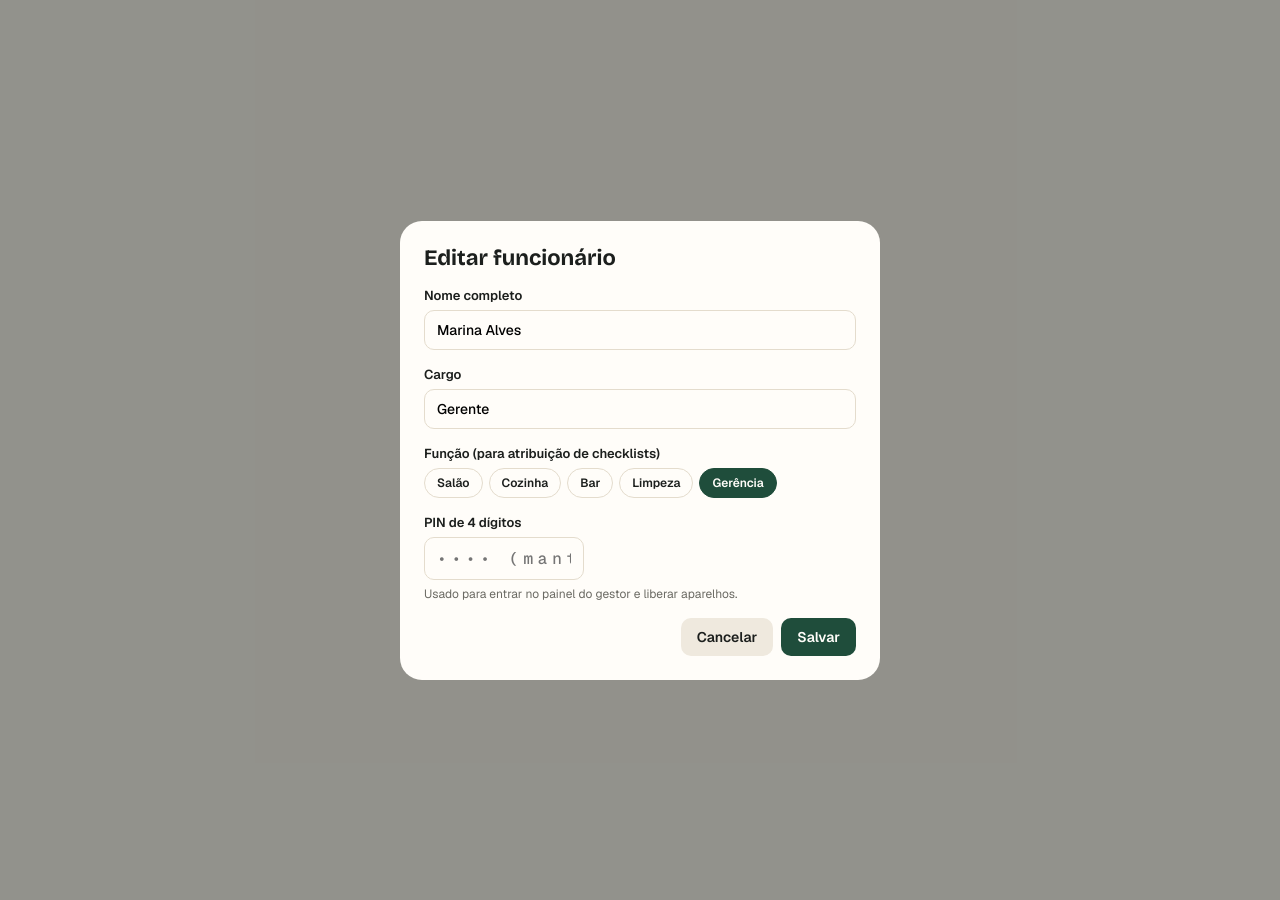
Test: US13 — modal de funcionário › editar gestor com PIN existente: PIN em branco mantém o atual (borda)
Expected: the dialog "Editar funcionário" is shown, [400,220,880,680]
Click the button "Salvar" at (819, 636), box [781,618,856,656]
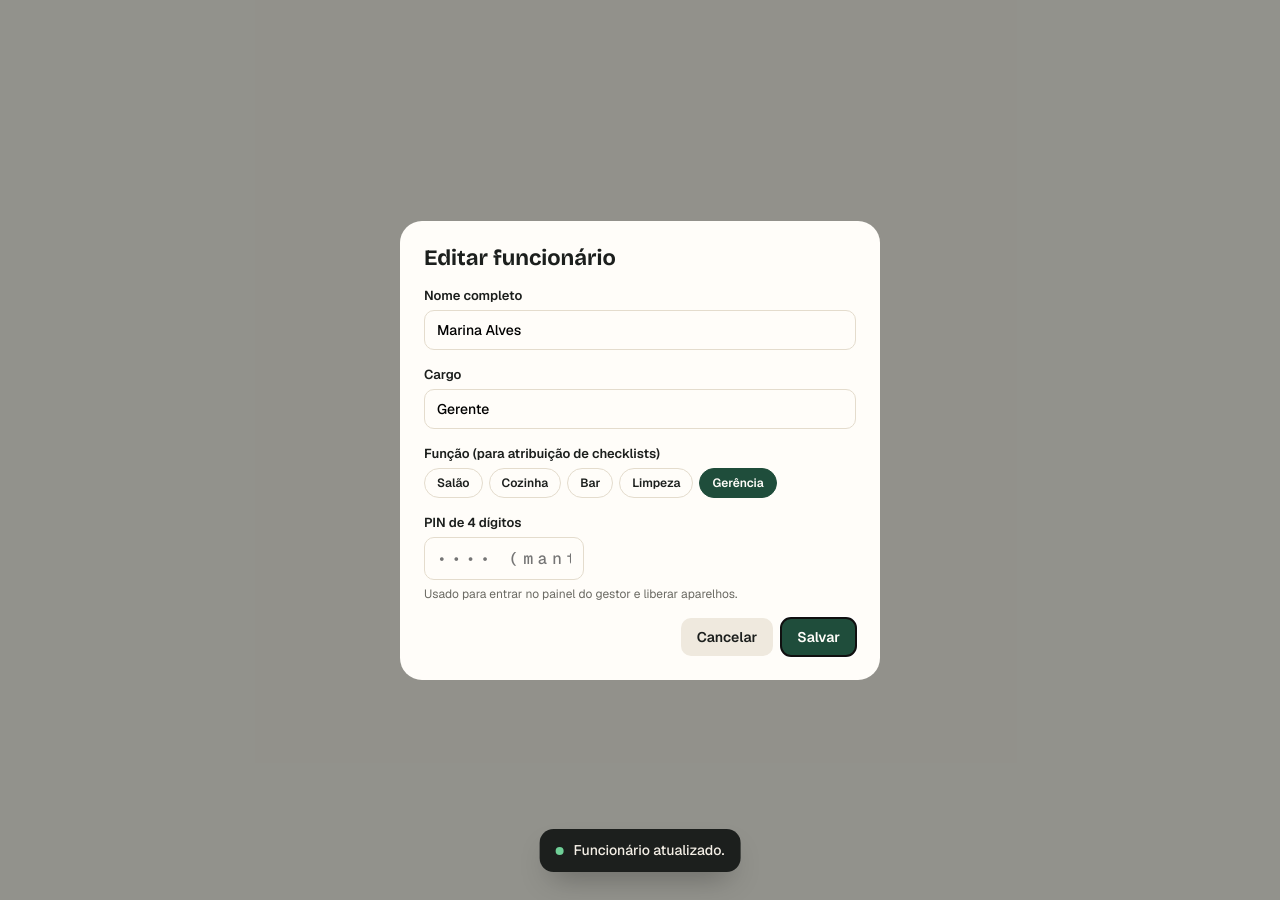
Expected: the message reads "Funcionário atualizado.", [574,841,724,859]
